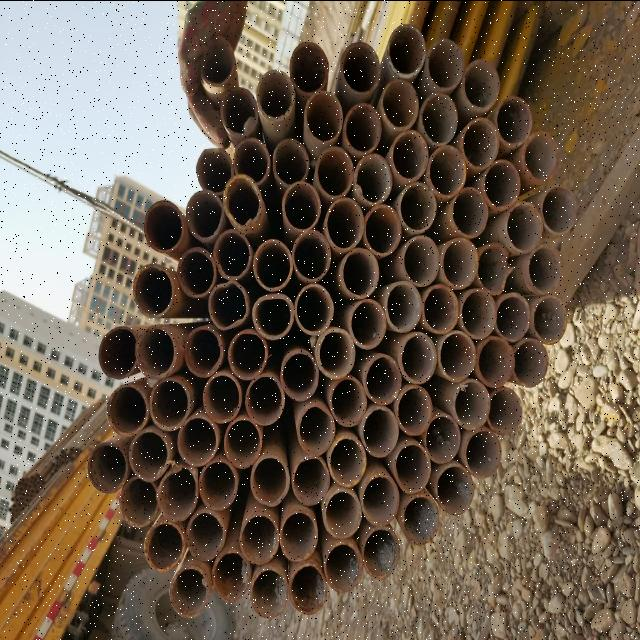pipe: (386, 21, 426, 78), (136, 323, 178, 377), (149, 376, 191, 430), (158, 465, 198, 521), (340, 39, 380, 94), (106, 382, 148, 434), (133, 263, 175, 315), (169, 566, 211, 618), (293, 282, 335, 334), (324, 195, 364, 249), (143, 519, 184, 571), (177, 412, 218, 464), (202, 369, 242, 422), (303, 89, 343, 142), (251, 291, 295, 339), (428, 142, 467, 196), (328, 432, 366, 487), (129, 428, 169, 480), (249, 566, 289, 618), (244, 372, 284, 424), (252, 236, 292, 288), (290, 453, 330, 505), (340, 245, 380, 297), (99, 325, 137, 379), (186, 506, 224, 560), (212, 548, 250, 602), (224, 174, 262, 228), (324, 540, 362, 594), (362, 525, 400, 579), (348, 296, 386, 350), (476, 333, 514, 387), (380, 76, 418, 130), (419, 90, 457, 144), (462, 114, 500, 168), (426, 36, 464, 90), (87, 441, 127, 492), (177, 244, 216, 296), (292, 228, 331, 280), (315, 145, 354, 197), (440, 235, 478, 288), (239, 512, 279, 562), (208, 278, 248, 328), (279, 508, 317, 560), (213, 227, 251, 279), (197, 34, 235, 86), (280, 348, 318, 400), (316, 326, 354, 378), (343, 101, 381, 153), (354, 152, 392, 204), (384, 280, 422, 332), (522, 129, 560, 181), (399, 180, 437, 232), (391, 128, 429, 180), (462, 56, 500, 108), (402, 233, 439, 286), (451, 184, 488, 237), (507, 199, 543, 253), (288, 562, 325, 614), (361, 472, 398, 524), (227, 330, 267, 378), (119, 476, 157, 526), (144, 199, 182, 249), (199, 458, 237, 508), (184, 326, 222, 376), (250, 454, 288, 504), (256, 68, 294, 118), (282, 180, 320, 230), (324, 486, 362, 536), (399, 332, 437, 382), (401, 494, 439, 544), (464, 428, 502, 478), (290, 41, 326, 93), (298, 402, 334, 454), (330, 374, 366, 426), (362, 404, 398, 456), (423, 282, 459, 334), (478, 242, 514, 294), (527, 242, 563, 294), (542, 183, 578, 235), (496, 94, 532, 146), (224, 416, 261, 466), (186, 188, 223, 238), (195, 145, 233, 193), (220, 86, 258, 134), (461, 286, 496, 338), (365, 352, 401, 402), (364, 204, 400, 254), (395, 442, 431, 492), (454, 378, 490, 428), (439, 330, 475, 380), (484, 158, 520, 208), (437, 464, 472, 514), (272, 137, 308, 185), (397, 384, 431, 434), (426, 412, 460, 462), (496, 292, 530, 342), (234, 136, 270, 183), (533, 294, 566, 344), (513, 338, 547, 386), (490, 388, 521, 433)
